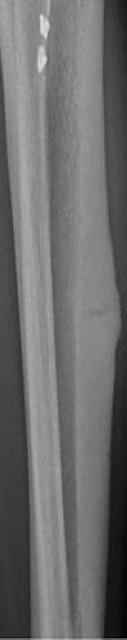fractured: (69, 294, 126, 332)
